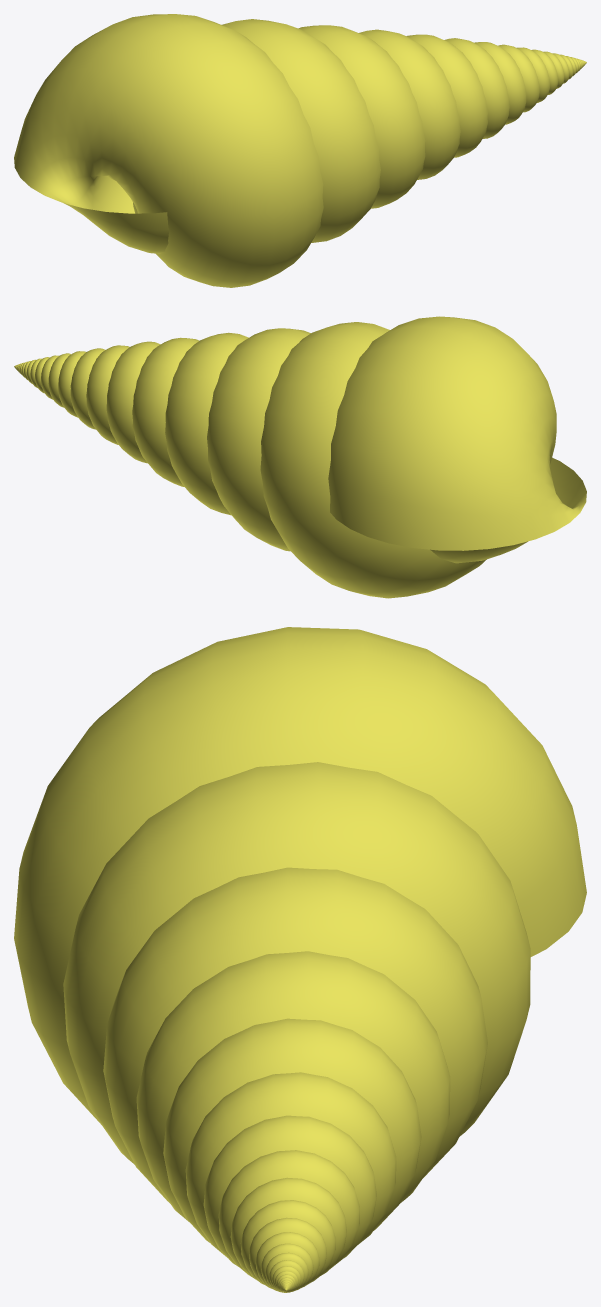
3 views of the same model, one above another, from view 1: azimuth 30°, elevation 25°; view 2: azimuth 150°, elevation 25°; view 3: azimuth 270°, elevation 25° (orthographic). The views are drawn at different scales.
Parts seen in each view (by area): view 1: t8; view 2: t8; view 3: t8.
Boxes of the visible parts, x1,y1,x2,y2 form: t8: (14, 14, 586, 287); t8: (14, 316, 586, 598); t8: (14, 627, 586, 1292).
Bounding box in the file's own units: 500 × 227 × 238.
